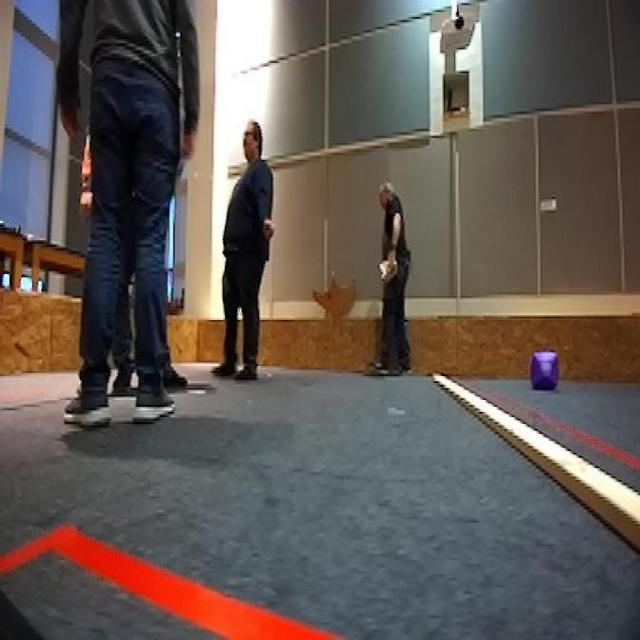frc_cube: (530, 347, 559, 395)
